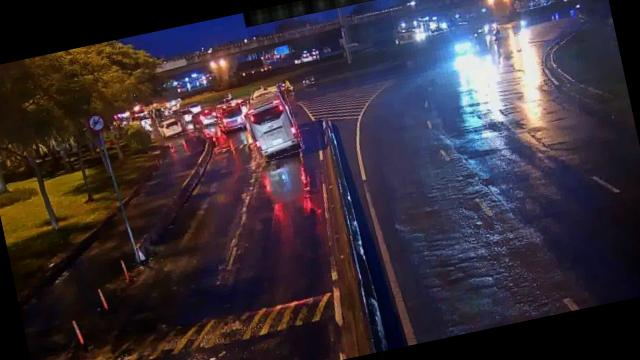Bus: (242, 88, 304, 162)
Car: (218, 106, 247, 133), (158, 113, 188, 138), (193, 106, 220, 127)
